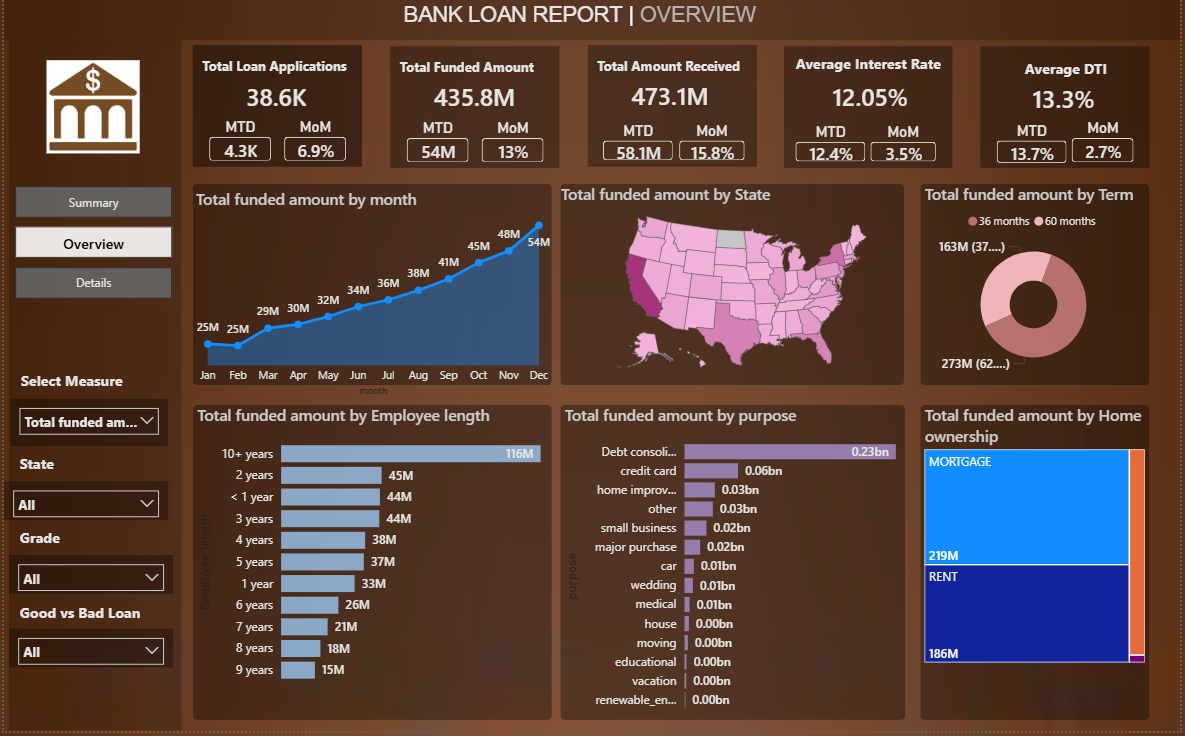

What the dashboard file says about the page in this screenshot:
{"tool":"powerbi","page":{"name":"Overview","canvas":[1311,821],"ordinal":1},"visuals":[{"type":"shape","box":[0,0,1311.3,50.6],"z":0},{"type":"shape","box":[5.6,50.6,192.5,770.2],"z":1000},{"type":"textbox","box":[441.3,0,446.9,60.4],"z":2000},{"type":"group","id":"g1","title":"Group 1","box":[210.8,56.2,189.7,136.3],"z":3000},{"type":"shape","box":[210.8,56.2,188.9,135.8],"z":3000,"group":"g1"},{"type":"shape","box":[650.7,56.2,188.9,135.8],"z":3000,"group":"g3"},{"type":"shape","box":[431.5,57.6,188.9,135.8],"z":3000,"group":"g2"},{"type":"shape","box":[870,57.6,188.3,136.3],"z":3000,"group":"g4"},{"type":"shape","box":[1089.2,57.6,188.9,135.8],"z":3000,"group":"g5"},{"type":"group","id":"g2","title":"Group 1","box":[431.5,57.6,188.3,136.3],"z":4000},{"type":"cardVisual","fields":{"Data":["bank_loan.total amount received"]},"box":[669.8,74.2,156,73.1],"z":4000,"group":"g3"},{"type":"cardVisual","fields":{"Data":["bank_loan.Total funded amount"]},"box":[450.6,75.6,156,73.1],"z":4000,"group":"g2"},{"type":"cardVisual","fields":{"Data":["bank_loan.Average intrest rate"]},"box":[895.3,76.4,156,73.1],"z":4000,"group":"g4"},{"type":"cardVisual","fields":{"Data":["bank_loan.AVERAGE DTI"]},"box":[1118.4,80.6,129.3,67.5],"z":4000,"group":"g5"},{"type":"cardVisual","fields":{"Data":["bank_loan.Total Loan Applications"]},"box":[241.3,81.1,129.3,61.8],"z":4000,"group":"g1"},{"type":"textbox","box":[874.1,60.1,179.9,32.3],"z":5000,"group":"g4"},{"type":"textbox","box":[216,64.2,179.9,32.3],"z":5000,"group":"g1"},{"type":"textbox","box":[655.9,64.2,179.9,32.3],"z":5000,"group":"g3"},{"type":"textbox","box":[436.7,65.6,179.9,32.3],"z":5000,"group":"g2"},{"type":"textbox","box":[1094.4,65.6,179.9,32.3],"z":5000,"group":"g5"},{"type":"shape","box":[210.8,210.8,400.6,224.9],"z":5000},{"type":"cardVisual","title":"MTD","fields":{"Data":["bank_loan.MTD Loan Applications"]},"box":[221.9,136.4,84,55.6],"z":6000,"group":"g1"},{"type":"cardVisual","title":"MTD","fields":{"Data":["bank_loan.MTD funded amount"]},"box":[442.6,137.8,84,55.6],"z":6000,"group":"g2"},{"type":"cardVisual","title":"MTD","fields":{"Data":["bank_loan.MTD AVG DTI"]},"box":[1100.1,141.1,92.8,53.4],"z":6000,"group":"g5"},{"type":"cardVisual","title":"MTD","fields":{"Data":["bank_loan.MTD total amount received"]},"box":[660.2,141.6,92.8,50.6],"z":6000,"group":"g3"},{"type":"cardVisual","title":"MTD","fields":{"Data":["bank_loan.MTD avg int rate"]},"box":[875.6,143,92.8,50.6],"z":6000,"group":"g4"},{"type":"textbox","box":[12.9,506.7,50,32.9],"z":6000},{"type":"group","id":"g3","title":"Group 1","box":[650.7,56.2,188.3,136.3],"z":7000},{"type":"cardVisual","title":"MoM","fields":{"Data":["bank_loan.MOM Loan Applications"]},"box":[305.9,136.4,84,55.6],"z":7000,"group":"g1"},{"type":"cardVisual","title":"MoM","fields":{"Data":["bank_loan.MOM total funded amount"]},"box":[526.6,137.8,84,55.6],"z":7000,"group":"g2"},{"type":"cardVisual","title":"MoM","fields":{"Data":["bank_loan.MOM avg DTI"]},"box":[1184.3,137.8,84,55.6],"z":7000,"group":"g5"},{"type":"cardVisual","title":"MoM","fields":{"Data":["bank_loan.MOM total amount received"]},"box":[746,141.6,87.1,50.6],"z":7000,"group":"g3"},{"type":"cardVisual","title":"MoM","fields":{"Data":["bank_loan.MOM avg intrest rate"]},"box":[959.9,143,87.1,50.6],"z":7000,"group":"g4"},{"type":"group","id":"g4","title":"Group 1","box":[870,57.6,188.3,136.3],"z":8000},{"type":"group","id":"g5","title":"Group 1","box":[1089.2,57.6,188.9,136.9],"z":9000},{"type":"slicer","fields":{"Values":["bank_loan.grade"]},"box":[5.7,625.3,182.9,42.9],"z":10000},{"type":"textbox","box":[12.9,589.1,68.6,32.9],"z":11000},{"type":"slicer","fields":{"Values":["bank_loan.address_state"]},"box":[0,542.9,182.9,42.9],"z":12000},{"type":"slicer","fields":{"Values":["bank_loan.Good vs Bad Loan"]},"box":[5.7,707.1,182.9,42.9],"z":13000},{"type":"textbox","box":[12.6,671.5,160.2,32.3],"z":14000},{"type":"areaChart","fields":{"Y":["bank_loan.Total funded amount"],"Category":["Date table.month"]},"box":[209.4,216.4,406.2,236.1],"z":15000},{"type":"slicer","fields":{"Values":["Select Measure.Select Measure"]},"box":[7.1,450.5,175.7,52.9],"z":16000},{"type":"textbox","box":[14.3,414.3,142.9,32.9],"z":17000},{"type":"shape","box":[619.8,210.8,383.7,224.9],"z":18000},{"type":"shapeMap","fields":{"Value":["bank_loan.Total funded amount"],"Category":["bank_loan.address_state"]},"box":[617,210.8,411.8,219.3],"z":19000},{"type":"shape","box":[1021.8,210.8,255.8,224.9],"z":20000},{"type":"donutChart","fields":{"Y":["bank_loan.Total funded amount"],"Category":["bank_loan.term"]},"box":[1021.8,210.8,253,219.3],"z":21000},{"type":"shape","box":[210.8,456.8,400.6,351.4],"z":22000},{"type":"barChart","fields":{"Y":["bank_loan.Total funded amount"],"Category":["bank_loan.emp_length"]},"box":[210.8,456.8,428.7,320.4],"z":23000},{"type":"shape","box":[619.8,456.8,385.1,351.4],"z":24000},{"type":"barChart","fields":{"Y":["bank_loan.Total funded amount"],"Category":["bank_loan.purpose"]},"box":[619.8,456.8,414.6,351.4],"z":25000},{"type":"shape","box":[1021.8,456.8,255.8,351.4],"z":26000},{"type":"treemap","fields":{"Values":["bank_loan.Total funded amount"],"Group":["bank_loan.home_ownership"]},"box":[1021.8,456.8,255.8,292.3],"z":27000},{"type":"pageNavigator","box":[12.6,213.6,175.7,126.5],"z":28000},{"type":"image","box":[47.8,66.1,104,118.1],"z":29000}]}

Visuals, with their boxes in screenshot pixels (x1, y1, x2, y2), scaled from the page's 1311x821 canvas onto the 1185x736 screenshot:
shape: x1=0, y1=0, x2=1184, y2=45
shape: x1=5, y1=45, x2=179, y2=735
textbox: x1=399, y1=0, x2=803, y2=54
"Group 1" group: x1=191, y1=50, x2=362, y2=173
shape: x1=191, y1=50, x2=361, y2=172
shape: x1=588, y1=50, x2=759, y2=172
shape: x1=390, y1=52, x2=561, y2=173
shape: x1=786, y1=52, x2=957, y2=174
shape: x1=985, y1=52, x2=1155, y2=173
"Group 1" group: x1=390, y1=52, x2=560, y2=174
cardVisual - bank_loan.total amount received: x1=605, y1=67, x2=746, y2=132
cardVisual - bank_loan.Total funded amount: x1=407, y1=68, x2=548, y2=133
cardVisual - bank_loan.Average intrest rate: x1=809, y1=68, x2=950, y2=134
cardVisual - bank_loan.AVERAGE DTI: x1=1011, y1=72, x2=1128, y2=133
cardVisual - bank_loan.Total Loan Applications: x1=218, y1=73, x2=335, y2=128
textbox: x1=790, y1=54, x2=953, y2=83
textbox: x1=195, y1=58, x2=358, y2=87
textbox: x1=593, y1=58, x2=755, y2=87
textbox: x1=395, y1=59, x2=557, y2=88
textbox: x1=989, y1=59, x2=1152, y2=88
shape: x1=191, y1=189, x2=553, y2=391
"MTD" cardVisual: x1=201, y1=122, x2=276, y2=172
"MTD" cardVisual: x1=400, y1=124, x2=476, y2=173
"MTD" cardVisual: x1=994, y1=126, x2=1078, y2=174
"MTD" cardVisual: x1=597, y1=127, x2=681, y2=172
"MTD" cardVisual: x1=791, y1=128, x2=875, y2=174
textbox: x1=12, y1=454, x2=57, y2=484
"Group 1" group: x1=588, y1=50, x2=758, y2=173
"MoM" cardVisual: x1=276, y1=122, x2=352, y2=172
"MoM" cardVisual: x1=476, y1=124, x2=552, y2=173
"MoM" cardVisual: x1=1070, y1=124, x2=1146, y2=173
"MoM" cardVisual: x1=674, y1=127, x2=753, y2=172
"MoM" cardVisual: x1=868, y1=128, x2=946, y2=174
"Group 1" group: x1=786, y1=52, x2=957, y2=174
"Group 1" group: x1=985, y1=52, x2=1155, y2=174
slicer - bank_loan.grade: x1=5, y1=561, x2=170, y2=599
textbox: x1=12, y1=528, x2=74, y2=558
slicer - bank_loan.address_state: x1=0, y1=487, x2=165, y2=525
slicer - bank_loan.Good vs Bad Loan: x1=5, y1=634, x2=170, y2=672
textbox: x1=11, y1=602, x2=156, y2=631
areaChart - bank_loan.Total funded amount x Date table.month: x1=189, y1=194, x2=556, y2=406
slicer - Select Measure.Select Measure: x1=6, y1=404, x2=165, y2=451
textbox: x1=13, y1=371, x2=142, y2=401
shape: x1=560, y1=189, x2=907, y2=391
shapeMap - bank_loan.Total funded amount x bank_loan.address_state: x1=558, y1=189, x2=930, y2=386
shape: x1=924, y1=189, x2=1155, y2=391
donutChart - bank_loan.Total funded amount x bank_loan.term: x1=924, y1=189, x2=1152, y2=386
shape: x1=191, y1=410, x2=553, y2=725
barChart - bank_loan.Total funded amount x bank_loan.emp_length: x1=191, y1=410, x2=578, y2=697
shape: x1=560, y1=410, x2=908, y2=725
barChart - bank_loan.Total funded amount x bank_loan.purpose: x1=560, y1=410, x2=935, y2=725
shape: x1=924, y1=410, x2=1155, y2=725
treemap - bank_loan.Total funded amount x bank_loan.home_ownership: x1=924, y1=410, x2=1155, y2=672
pageNavigator: x1=11, y1=191, x2=170, y2=305
image: x1=43, y1=59, x2=137, y2=165
